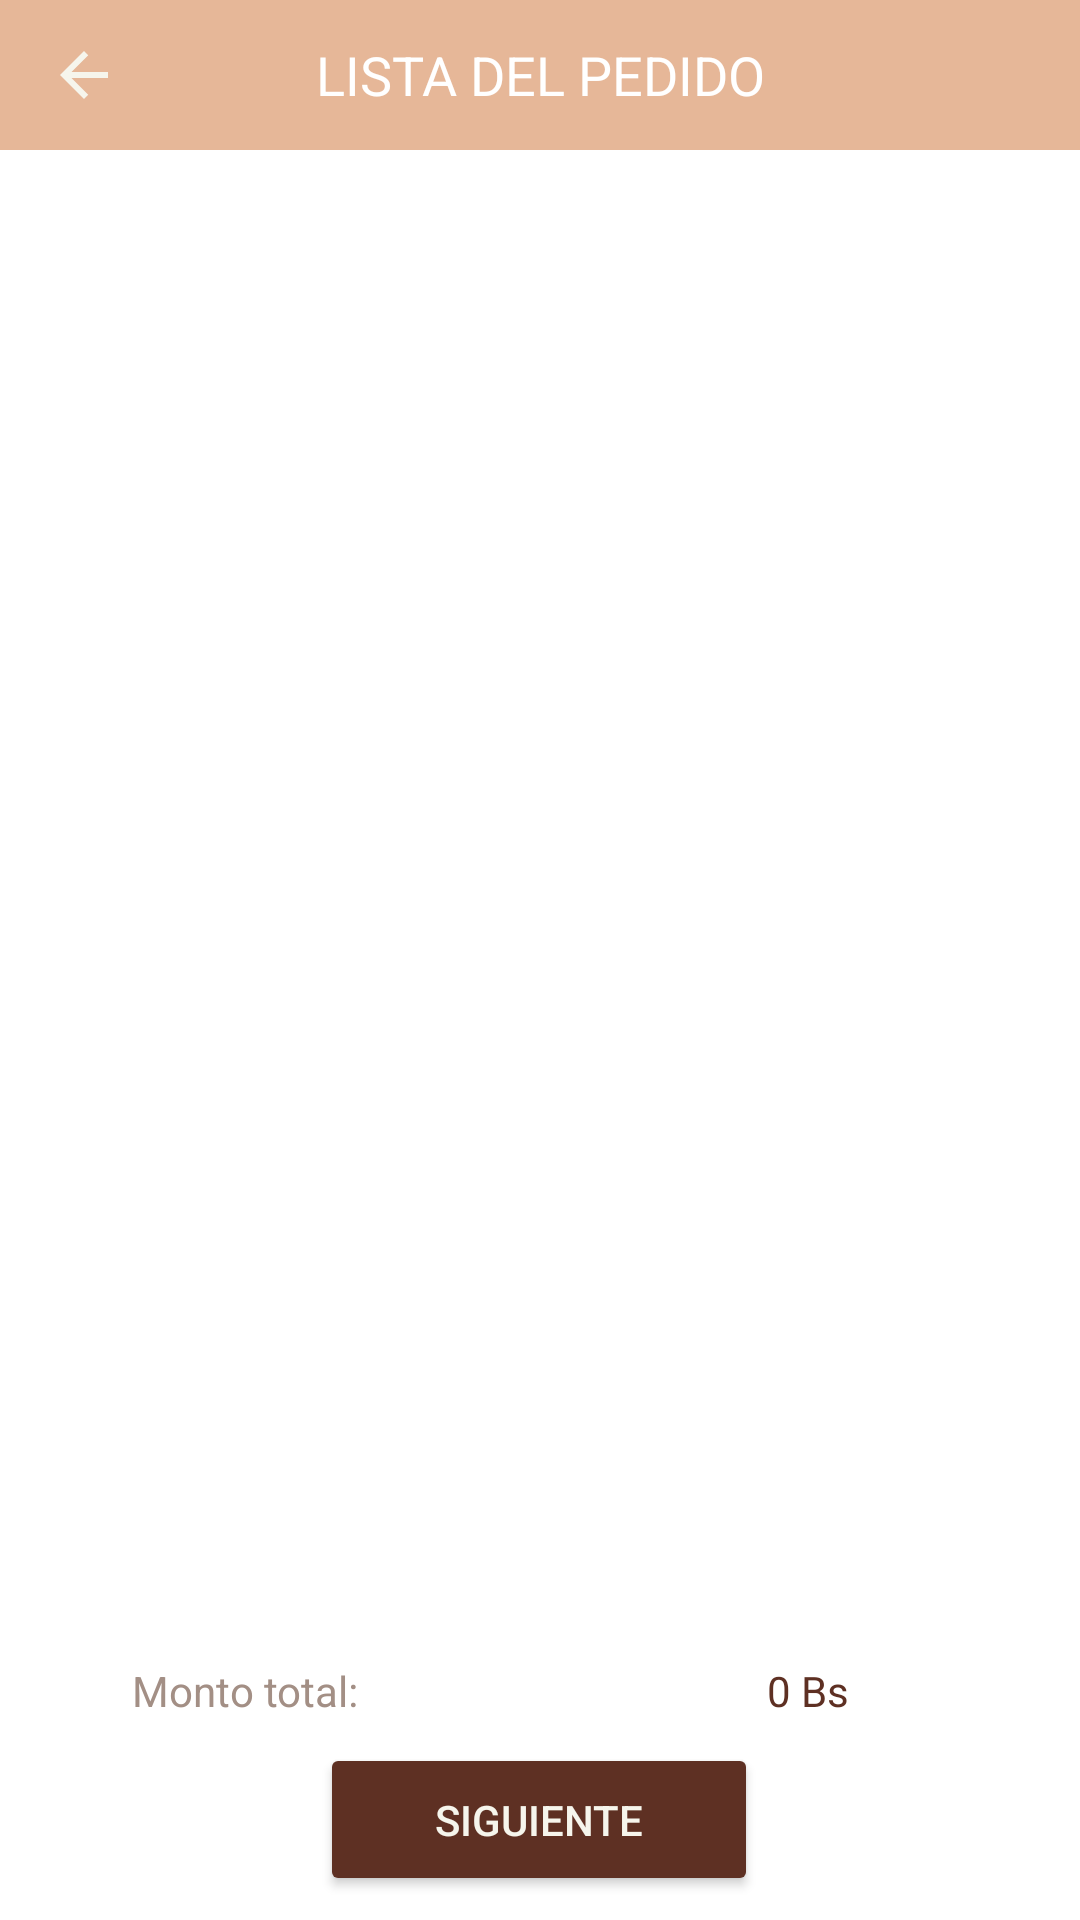

Named icons in this screenshot (1080px×1920px) and their bounding boxes, (x1, y1, x2, y2):
back activity: (60, 51, 108, 99)
